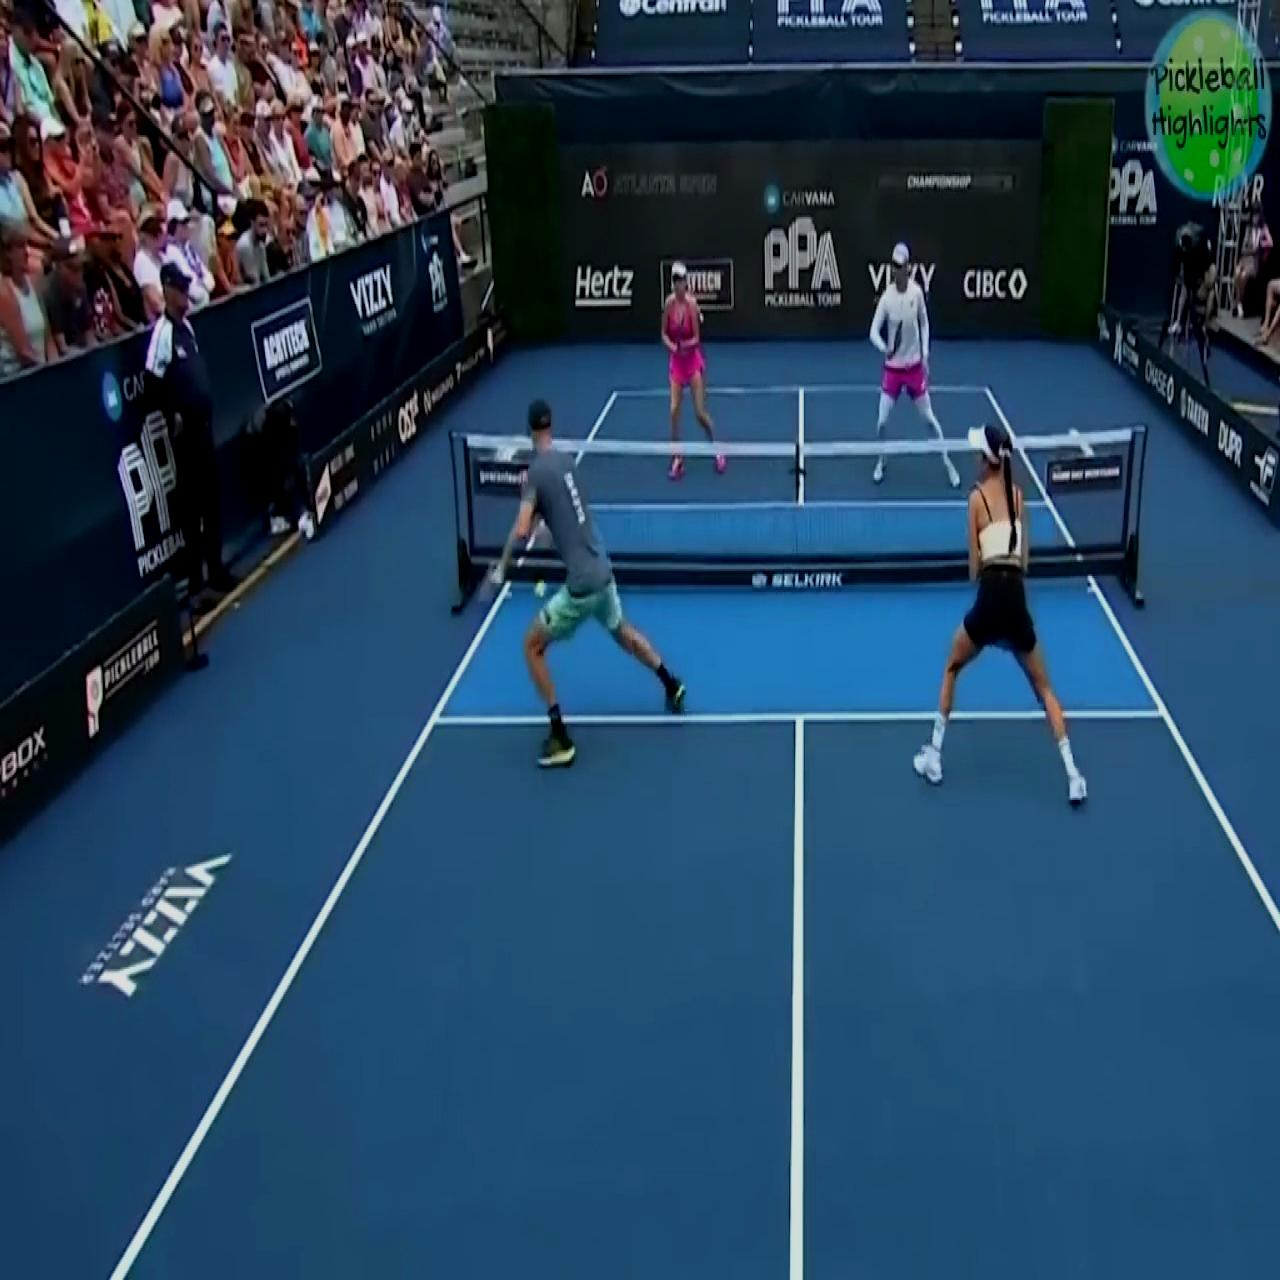Pickleball: (532, 572, 550, 606)
